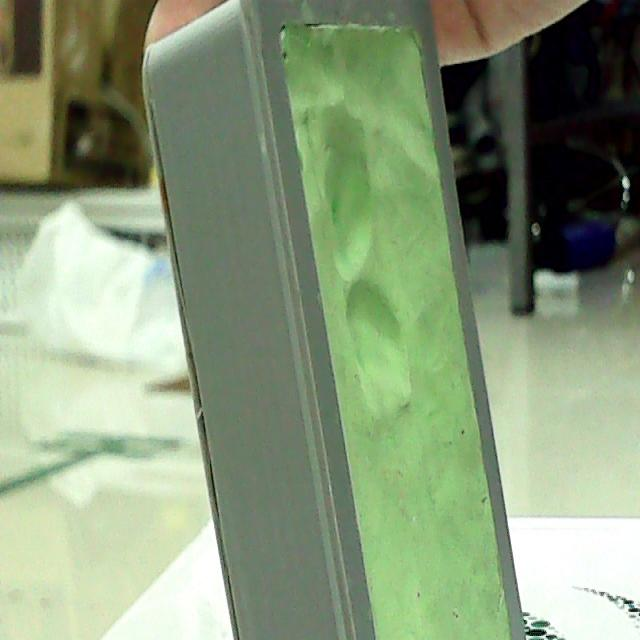block: (136, 0, 562, 633)
